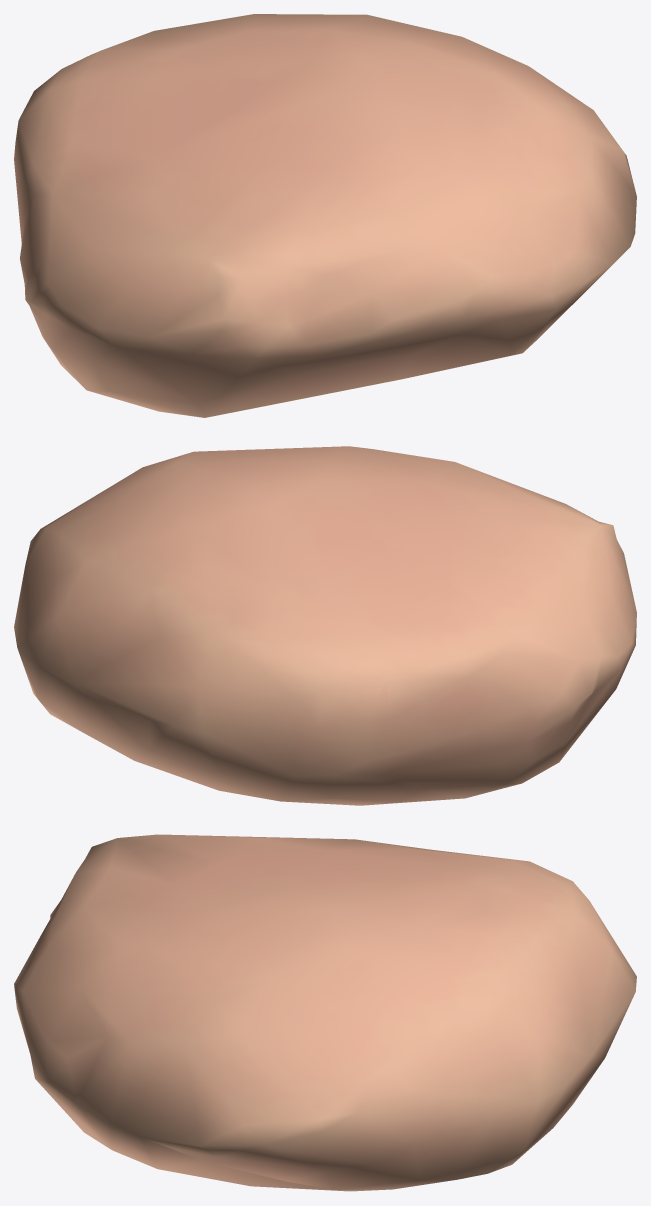
The model's file is ROK0110035.fbx.
3 views of the same model, one above another, from view 1: azimuth 30°, elevation 25°; view 2: azimuth 150°, elevation 25°; view 3: azimuth 270°, elevation 25° (orthographic). The views are drawn at different scales.
Parts seen in each view (by area): view 1: smROK0110035; view 2: smROK0110035; view 3: smROK0110035.
Part boxes in pixels (<box>): smROK0110035: <box>14,14,636,417</box>; smROK0110035: <box>14,446,636,805</box>; smROK0110035: <box>14,834,636,1191</box>.
Size of the model in its own units: 462 by 197 by 440.
1 material, 1 textured.
